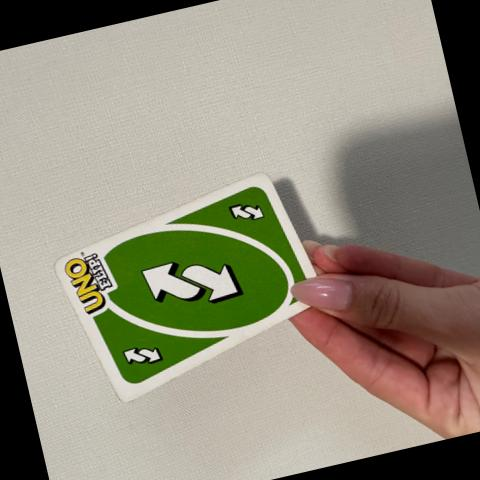lgreenrevers-20: (106, 323, 175, 385)
